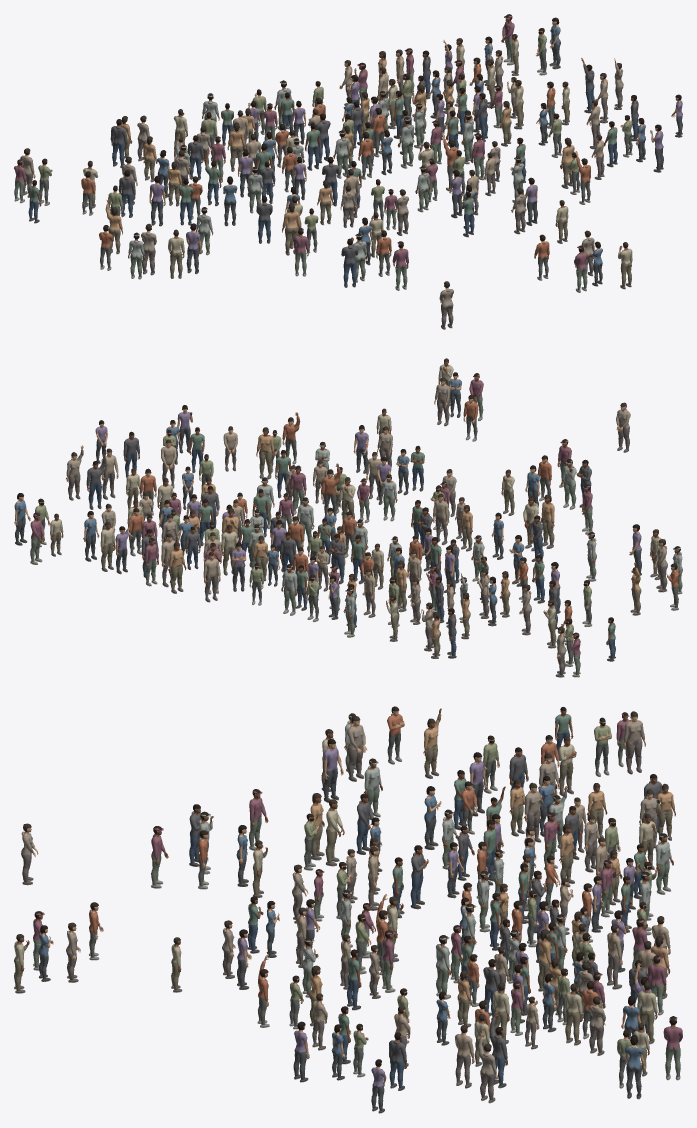
File: contact-frontage.optimized.glb
3 views of the same model, one above another, from view 1: azimuth 30°, elevation 25°; view 2: azimuth 150°, elevation 25°; view 3: azimuth 270°, elevation 25° (orthographic). The views are drawn at different scales.
Parts seen in each view (by area): view 1: Runtime / REV15Z / REV15 / REV13A / Organic audience 141, Runtime / REV15Z / REV15 / REV13A / Organic audience 105, Runtime / REV15Z / REV15 / REV13A / Audience 05_04, Runtime / REV15Z / REV15 / REV13A / Organic audience 075, Runtime / REV15Z / REV15 / REV13A / Rev05B audience 157, Runtime / REV15Z / REV15 / REV13A / Rev05B audience 149, Runtime / REV15Z / REV15 / REV13A / Rev05B audience 159, Runtime / REV15Z / REV15 / REV13A / Audience 01_07, Runtime / REV15Z / REV15 / REV13A / Audience 02_02, Runtime / REV15Z / REV15 / REV13A / Organic audience 138, Runtime / REV15Z / REV15 / REV13A / Organic audience 104, Runtime / REV15Z / REV15 / REV13A / Organic audience 103 (+17 smaller); view 2: Runtime / REV15Z / REV15 / REV13A / Organic audience 049, Runtime / REV15Z / REV15 / REV13A / Rev05B audience 162, Runtime / REV15Z / REV15 / REV13A / Audience 04_05, Runtime / REV15Z / REV15 / REV13A / Audience 05_04, Runtime / REV15Z / REV15 / REV13A / Organic audience 092, Runtime / REV15Z / REV15 / REV13A / Organic audience 142, Runtime / REV15Z / REV15 / REV13A / Organic audience 143, Runtime / REV15Z / REV15 / REV13A / Rev05B audience 173, Runtime / REV15Z / REV15 / REV13A / Audience 02_07, Runtime / REV15Z / REV15 / REV13A / Rev05B audience 145, Runtime / REV15Z / REV15 / REV13A / Audience 00_03, Runtime / REV15Z / REV15 / REV13A / Rev05B audience 166 (+21 smaller); view 3: Runtime / REV15Z / REV15 / REV13A / Rev05B audience 160, Runtime / REV15Z / REV15 / REV13A / Rev05B audience 159, Runtime / REV15Z / REV15 / REV13A / Rev05B audience 171, Runtime / REV15Z / REV15 / REV13A / Rev05B audience 173, Runtime / REV15Z / REV15 / REV13A / Rev05B audience 149, Runtime / REV15Z / REV15 / REV13A / Organic audience 109, Runtime / REV15Z / REV15 / REV13A / Rev05B audience 166, Runtime / REV15Z / REV15 / REV13A / Rev05B audience 172, Runtime / REV15Z / REV15 / REV13A / Rev05B audience 152, Runtime / REV15Z / REV15 / REV13A / Rev05B audience 162, Runtime / REV15Z / REV15 / REV13A / Organic audience 082, Runtime / REV15Z / REV15 / REV13A / Rev05B audience 174 (+32 smaller).
Boxes of the visible parts, box(x1,y1,x2,y2) form: Runtime / REV15Z / REV15 / REV13A / Organic audience 141: box(397, 117, 414, 168); Runtime / REV15Z / REV15 / REV13A / Organic audience 105: box(149, 175, 165, 226); Runtime / REV15Z / REV15 / REV13A / Audience 05_04: box(282, 203, 300, 255); Runtime / REV15Z / REV15 / REV13A / Organic audience 075: box(110, 119, 127, 167); Runtime / REV15Z / REV15 / REV13A / Rev05B audience 157: box(168, 229, 184, 278); Runtime / REV15Z / REV15 / REV13A / Rev05B audience 149: box(186, 223, 201, 274); Runtime / REV15Z / REV15 / REV13A / Rev05B audience 159: box(141, 223, 156, 275); Runtime / REV15Z / REV15 / REV13A / Audience 01_07: box(392, 241, 408, 290); Runtime / REV15Z / REV15 / REV13A / Audience 02_02: box(341, 238, 358, 287); Runtime / REV15Z / REV15 / REV13A / Organic audience 138: box(118, 170, 135, 217); Runtime / REV15Z / REV15 / REV13A / Organic audience 104: box(227, 122, 245, 171); Runtime / REV15Z / REV15 / REV13A / Organic audience 103: box(333, 130, 351, 178); Runtime / REV15Z / REV15 / REV13A / Organic audience 049: box(256, 427, 274, 479); Runtime / REV15Z / REV15 / REV13A / Rev05B audience 162: box(86, 453, 106, 509); Runtime / REV15Z / REV15 / REV13A / Audience 04_05: box(321, 463, 340, 517); Runtime / REV15Z / REV15 / REV13A / Audience 05_04: box(540, 494, 554, 548); Runtime / REV15Z / REV15 / REV13A / Organic audience 092: box(168, 542, 186, 593); Runtime / REV15Z / REV15 / REV13A / Organic audience 142: box(281, 564, 297, 615); Runtime / REV15Z / REV15 / REV13A / Organic audience 143: box(203, 552, 220, 602); Runtime / REV15Z / REV15 / REV13A / Rev05B audience 173: box(66, 445, 83, 500); Runtime / REV15Z / REV15 / REV13A / Audience 02_07: box(432, 493, 448, 545); Runtime / REV15Z / REV15 / REV13A / Rev05B audience 145: box(100, 521, 115, 571); Runtime / REV15Z / REV15 / REV13A / Audience 00_03: box(434, 377, 450, 426); Runtime / REV15Z / REV15 / REV13A / Rev05B audience 166: box(101, 448, 118, 499); Runtime / REV15Z / REV15 / REV13A / Rev05B audience 160: box(623, 711, 645, 774); Runtime / REV15Z / REV15 / REV13A / Rev05B audience 159: box(347, 715, 366, 781); Runtime / REV15Z / REV15 / REV13A / Rev05B audience 171: box(625, 1035, 645, 1099); Runtime / REV15Z / REV15 / REV13A / Rev05B audience 173: box(478, 1031, 497, 1103); Runtime / REV15Z / REV15 / REV13A / Rev05B audience 149: box(323, 739, 343, 802); Runtime / REV15Z / REV15 / REV13A / Organic audience 109: box(565, 983, 582, 1045); Runtime / REV15Z / REV15 / REV13A / Rev05B audience 166: box(455, 1024, 474, 1088); Runtime / REV15Z / REV15 / REV13A / Rev05B audience 172: box(663, 1016, 682, 1080); Runtime / REV15Z / REV15 / REV13A / Rev05B audience 152: box(423, 708, 441, 778); Runtime / REV15Z / REV15 / REV13A / Rev05B audience 162: box(489, 1010, 507, 1088); Runtime / REV15Z / REV15 / REV13A / Organic audience 082: box(655, 833, 673, 894); Runtime / REV15Z / REV15 / REV13A / Rev05B audience 174: box(389, 1032, 406, 1090).
Size of the model in its own units: 24.49 by 2.36 by 19.36.
